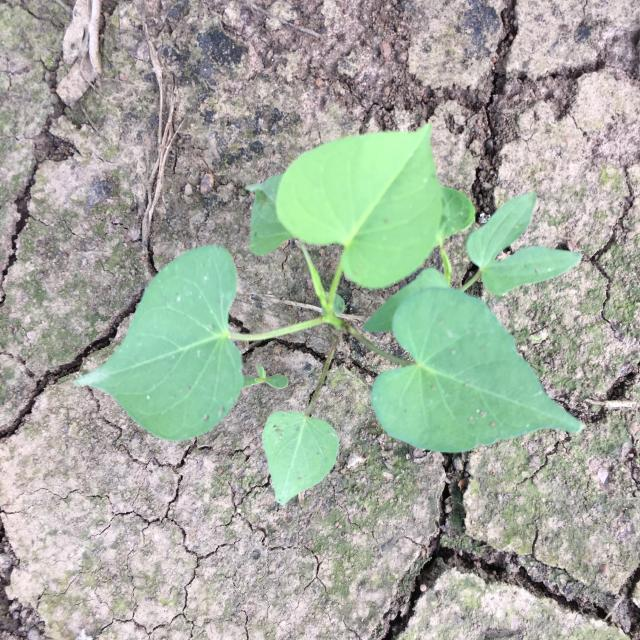MorningGlory: (74, 122, 583, 506)
